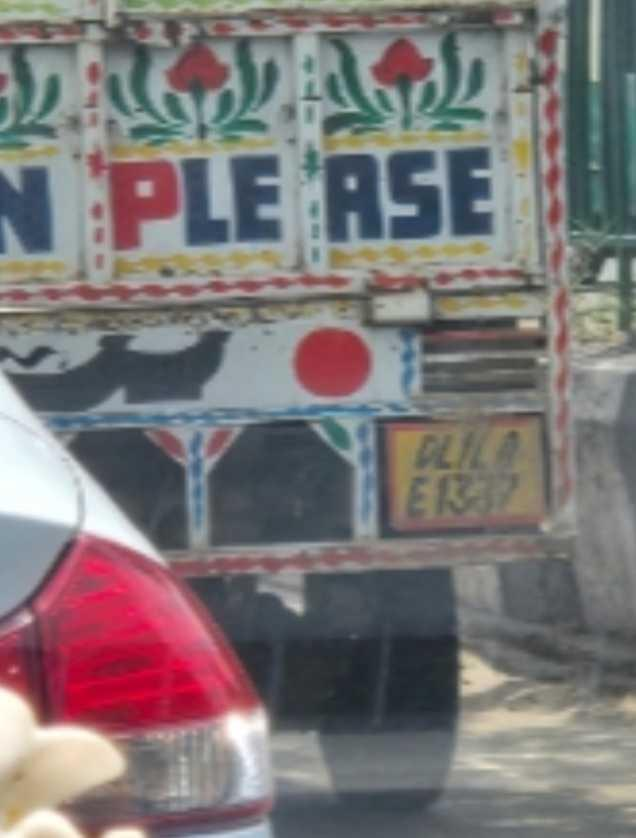License plate: (386, 418, 544, 530)
